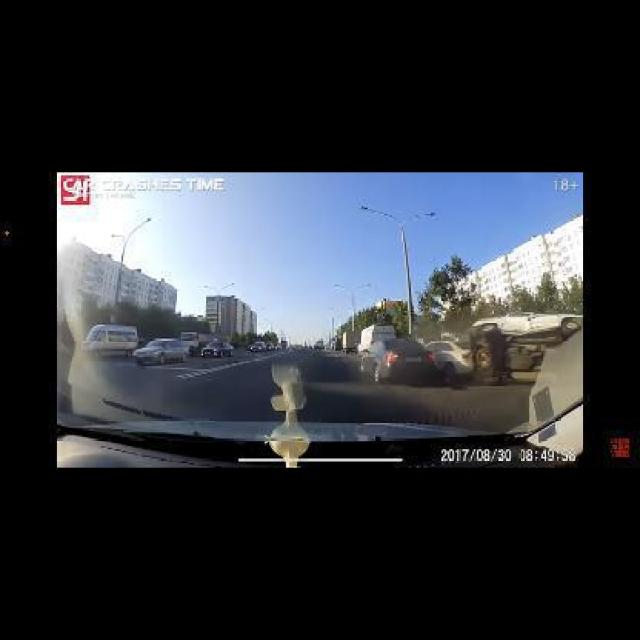accident: (466, 306, 599, 392), (350, 331, 476, 389)
